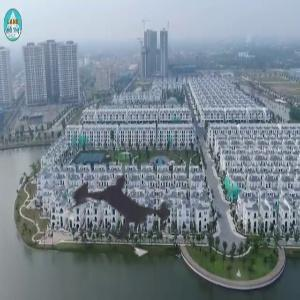drone: (40, 124, 213, 297)
